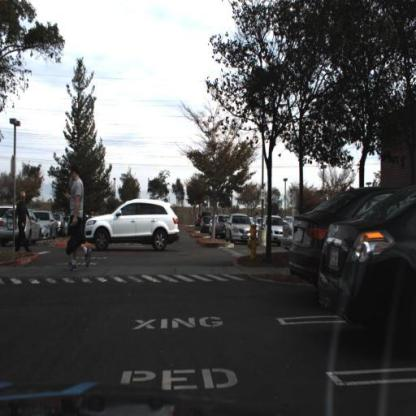car: (317, 187, 416, 320), (87, 197, 181, 253), (291, 197, 330, 280), (66, 166, 90, 270), (2, 209, 41, 248), (1, 209, 41, 245), (226, 215, 255, 244), (261, 217, 285, 249), (35, 211, 57, 245), (213, 214, 232, 241), (211, 214, 226, 241), (202, 217, 212, 235)
pedestrian: (61, 165, 95, 277), (15, 193, 33, 255)
